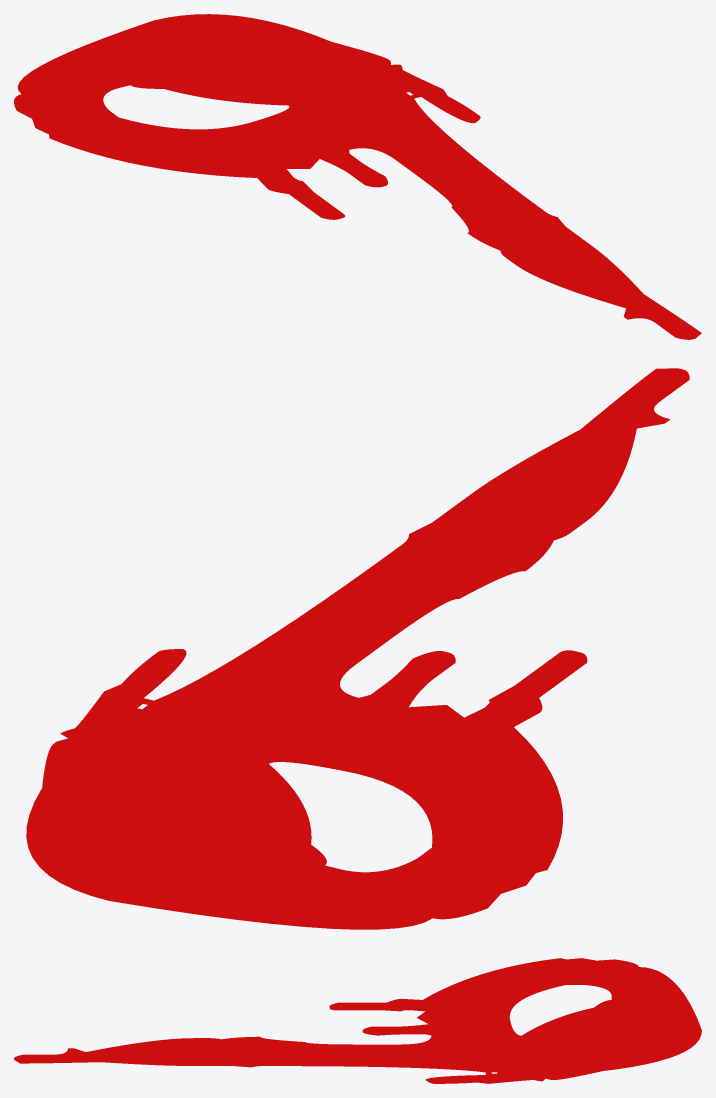
3 renders of one model, top to bottom at view 1: azimuth 30°, elevation 25°; view 2: azimuth 150°, elevation 25°; view 3: azimuth 270°, elevation 25°, orthographic. The views are drawn at different scales.
Parts seen in each view (by area): view 1: Text; view 2: Text; view 3: Text.
Boxes of the visible parts, <box> form: Text: <box>14,14,701,339</box>; Text: <box>26,368,689,929</box>; Text: <box>14,958,701,1083</box>.
Size of the model in its own units: 19.47 by 7.33e-06 by 45.01.
